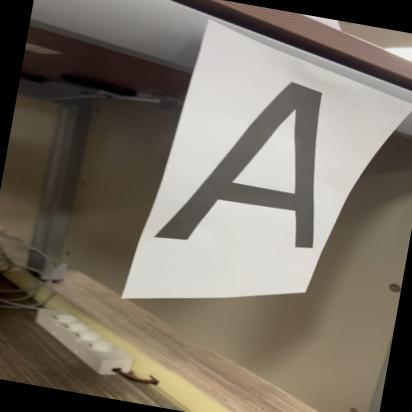seat: (158, 63, 352, 280)
